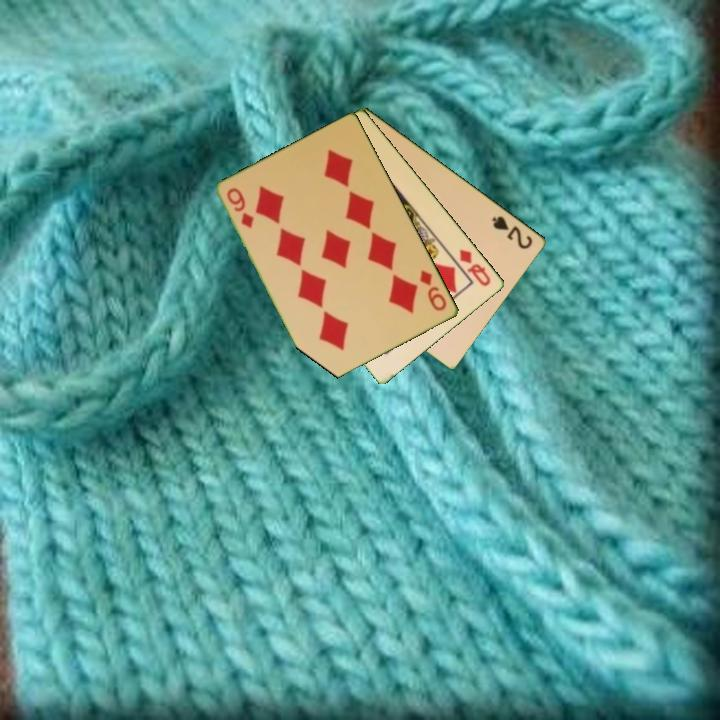2s: (489, 212, 536, 252)
9d: (416, 266, 450, 314), (223, 184, 257, 231)
Qd: (456, 245, 494, 289)
